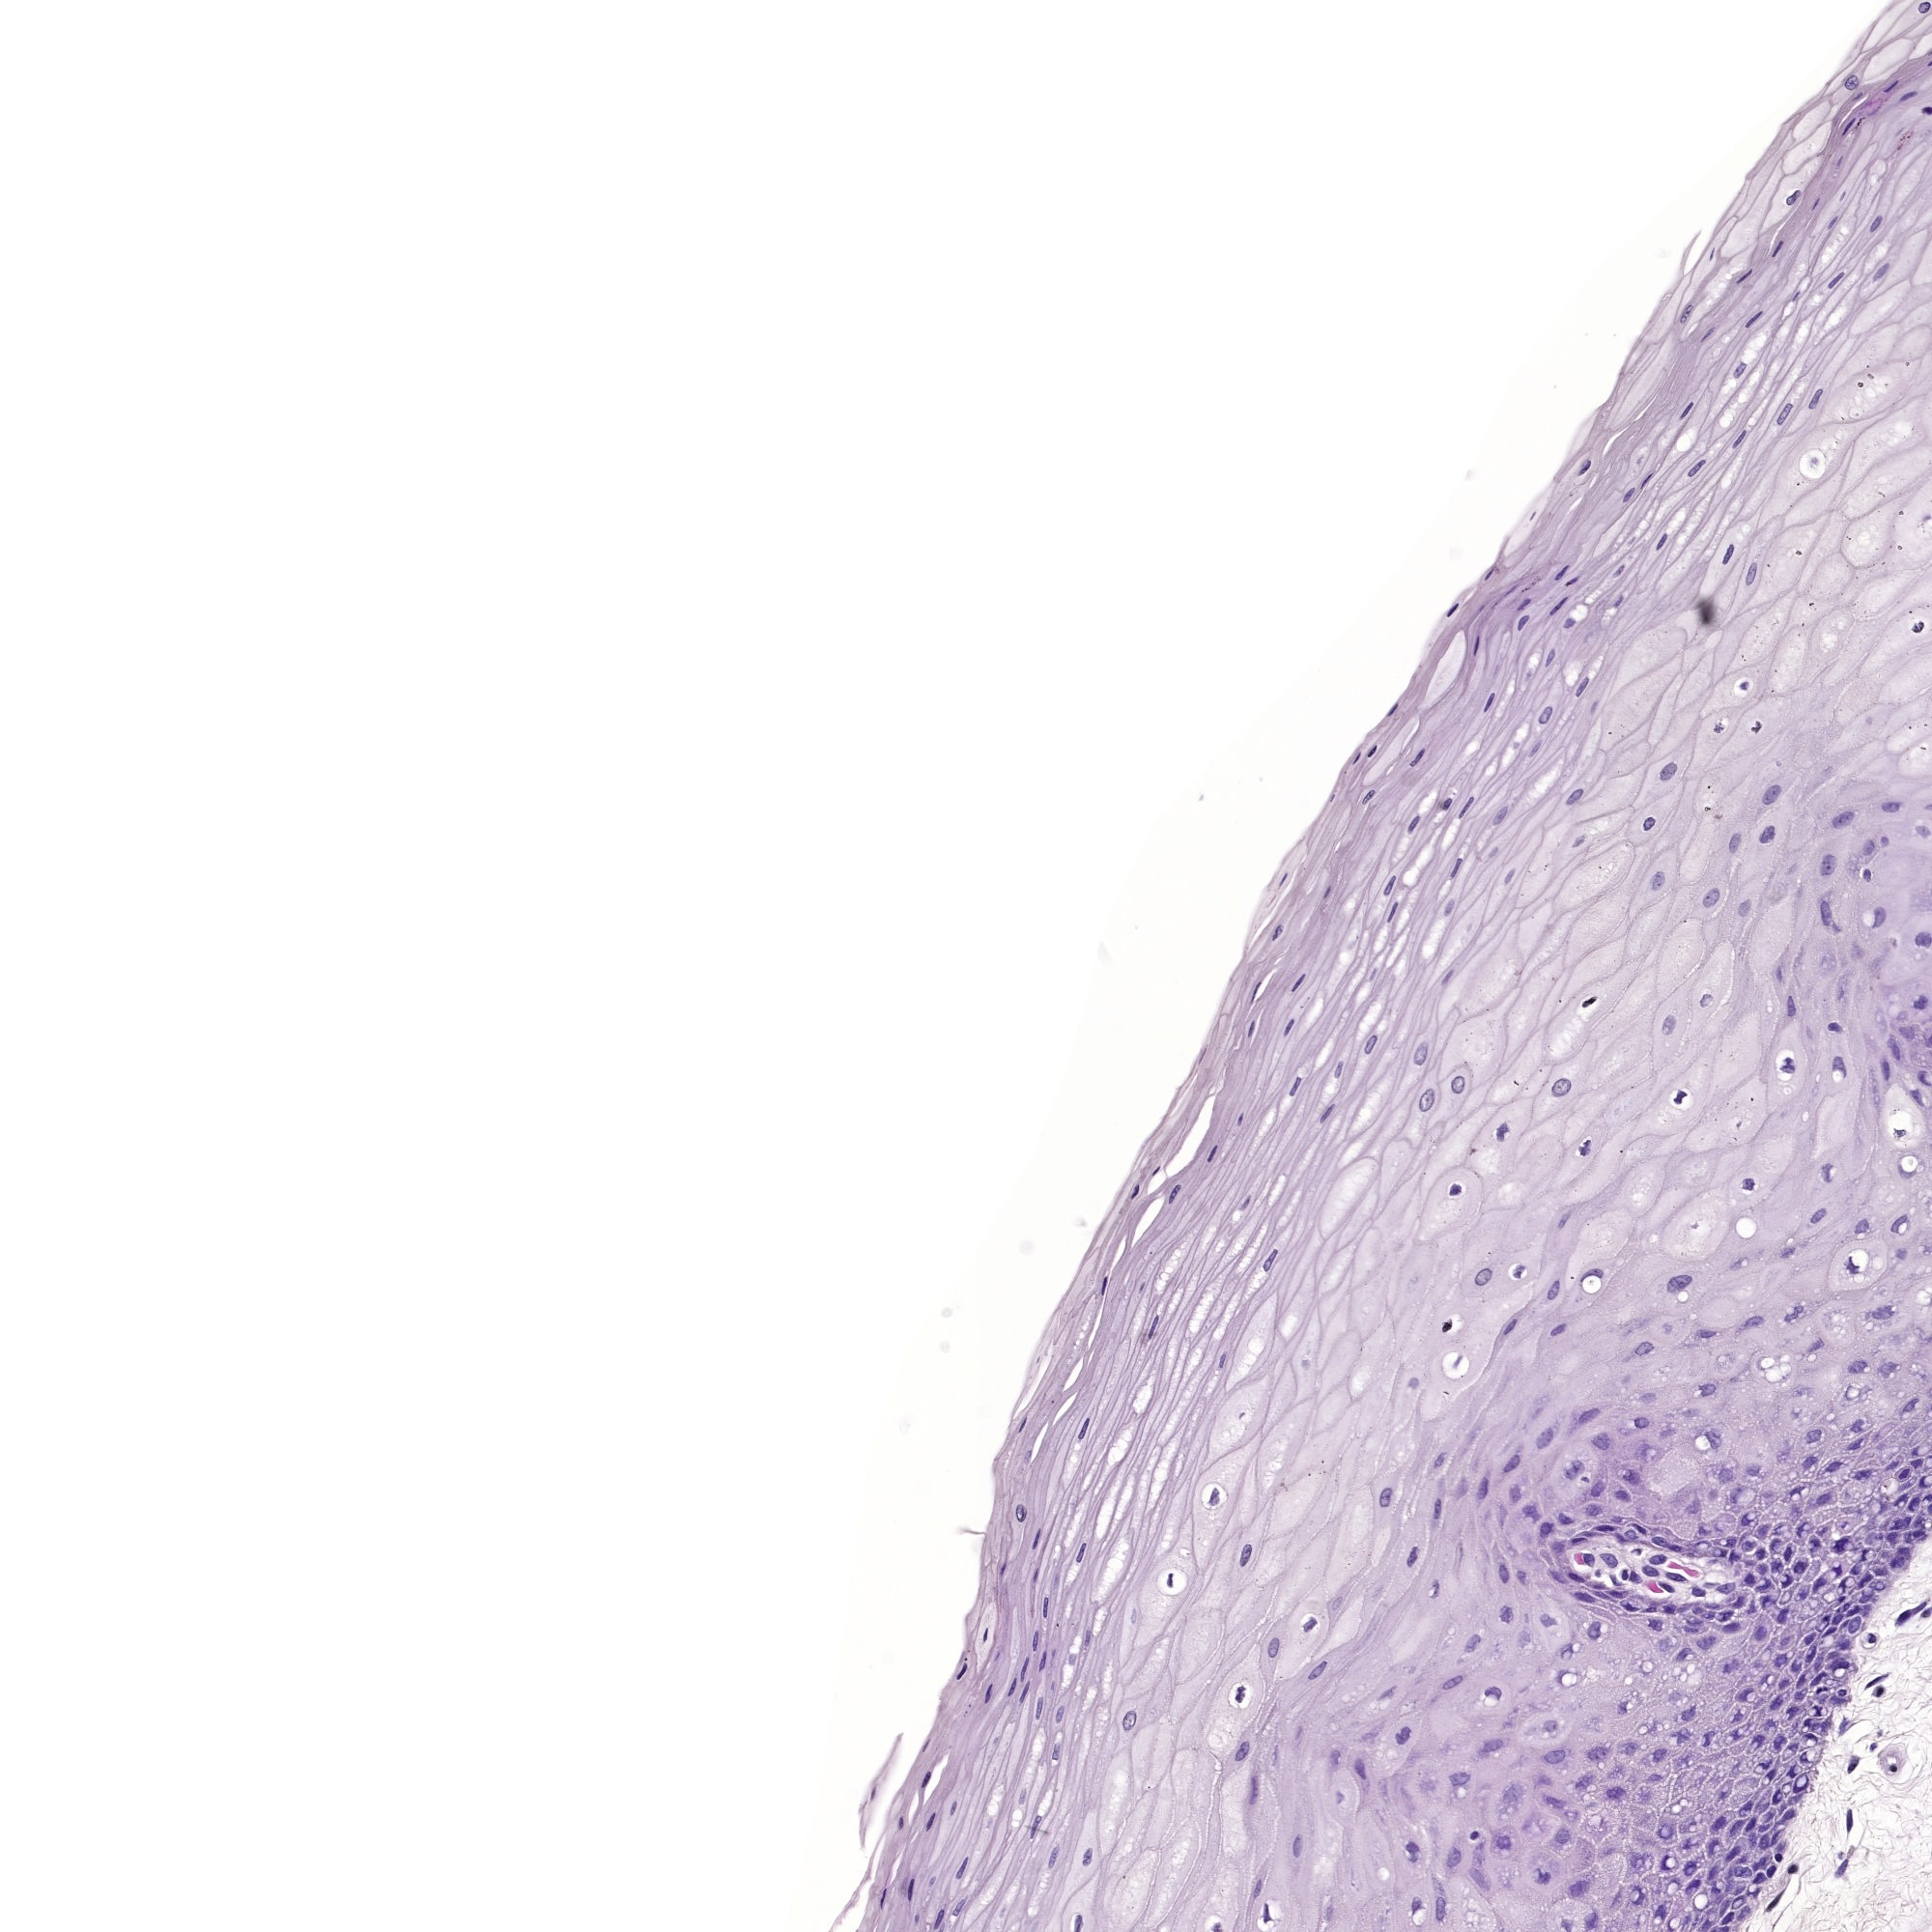epithelial: (1895, 1520, 1907, 1527), (1451, 1854, 1458, 1861), (1171, 1191, 1178, 1196), (1667, 1019, 1672, 1026), (1509, 1461, 1516, 1467), (1247, 1548, 1251, 1555), (1785, 1813, 1789, 1821), (1576, 1888, 1583, 1891), (1907, 92, 1913, 96), (1835, 1062, 1840, 1065), (1677, 1283, 1683, 1286), (1576, 1467, 1580, 1472), (1902, 1472, 1905, 1477), (1592, 1626, 1596, 1631), (1734, 1826, 1737, 1831), (1490, 1744, 1495, 1748), (1697, 465, 1700, 469), (1522, 603, 1525, 607), (1826, 909, 1828, 916), (1909, 1403, 1913, 1407), (1810, 1435, 1813, 1438), (1483, 1272, 1484, 1279), (1079, 1552, 1083, 1555), (1481, 1488, 1484, 1491), (1877, 1571, 1881, 1575), (1723, 1615, 1727, 1619), (1626, 1746, 1629, 1750), (1732, 1852, 1736, 1856), (1403, 1734, 1407, 1737), (1453, 1681, 1456, 1684), (1385, 1693, 1392, 1695), (1242, 1750, 1246, 1753), (1058, 1713, 1062, 1716), (1686, 310, 1688, 315), (1734, 840, 1736, 846), (1251, 1028, 1253, 1033), (1545, 1435, 1546, 1440), (1472, 1642, 1474, 1647), (1859, 1474, 1865, 1476), (1842, 1541, 1844, 1546), (1458, 1780, 1463, 1782), (1550, 1725, 1555, 1727), (1127, 1718, 1129, 1723), (1256, 1886, 1258, 1891), (1851, 80, 1852, 83), (1891, 87, 1893, 90), (1744, 276, 1748, 278), (1835, 278, 1838, 280), (1752, 318, 1755, 320), (1559, 571, 1560, 575), (1660, 543, 1663, 545), (1497, 816, 1499, 819), (1392, 908, 1394, 911), (1447, 975, 1449, 978), (1371, 1044, 1373, 1047), (1325, 1113, 1327, 1116), (1790, 1001, 1792, 1005), (1905, 1031, 1907, 1035), (1875, 966, 1877, 970), (1916, 1097, 1920, 1099), (1859, 1224, 1861, 1228), (1752, 1320, 1755, 1322), (1882, 1311, 1884, 1315), (1856, 1364, 1858, 1368), (1587, 1415, 1589, 1419), (1562, 1221, 1566, 1223), (1270, 1258, 1272, 1261), (1244, 1201, 1246, 1205), (1023, 1422, 1024, 1426), (1336, 1603, 1338, 1606), (1833, 1468, 1836, 1470), (1914, 1460, 1918, 1461), (1913, 1500, 1914, 1504), (1668, 1545, 1672, 1546), (1658, 1539, 1661, 1541), (1532, 1509, 1534, 1513), (1506, 1615, 1507, 1619), (1615, 1592, 1619, 1594), (1628, 1608, 1631, 1610), (1652, 1608, 1654, 1612), (1730, 1626, 1732, 1629), (1780, 1658, 1782, 1661), (1817, 1675, 1821, 1677), (1836, 1663, 1840, 1665), (1776, 1700, 1778, 1704), (1704, 1640, 1706, 1644), (1686, 1713, 1688, 1716), (1557, 1753, 1559, 1757), (1748, 1822, 1750, 1826), (1769, 1868, 1771, 1872), (1500, 1842, 1504, 1844), (1410, 1847, 1412, 1851), (1295, 1844, 1297, 1847), (1040, 1706, 1042, 1709), (1024, 1688, 1026, 1691), (957, 1905, 959, 1909), (1476, 1875, 1479, 1877), (1543, 1877, 1545, 1881), (1727, 1920, 1729, 1923), (1760, 1875, 1762, 1879), (1842, 195, 1844, 196), (1875, 223, 1877, 225), (1831, 223, 1833, 225), (1739, 370, 1741, 372), (1783, 414, 1785, 416), (1585, 465, 1587, 467), (1453, 610, 1454, 612), (1569, 582, 1571, 584), (1619, 570, 1621, 571), (1392, 708, 1394, 709), (1523, 621, 1525, 623), (1488, 701, 1490, 702), (1582, 685, 1583, 686), (1667, 770, 1668, 771), (1449, 906, 1451, 908), (1277, 931, 1279, 932), (1288, 1024, 1290, 1026), (1295, 1085, 1297, 1086), (1778, 971, 1780, 973), (1840, 991, 1842, 993), (1856, 950, 1858, 952), (1817, 1217, 1819, 1219), (1706, 1332, 1707, 1334), (1707, 1389, 1709, 1391), (1598, 1440, 1599, 1442), (1649, 1398, 1651, 1399), (1559, 1329, 1560, 1330), (1509, 1325, 1511, 1327), (1037, 1536, 1039, 1537), (1023, 1667, 1024, 1668), (1309, 1624, 1311, 1626), (1318, 1667, 1320, 1668), (1856, 1444, 1858, 1445), (1806, 1461, 1808, 1463), (1867, 1580, 1868, 1582), (1640, 1529, 1642, 1530), (1631, 1476, 1633, 1477), (1502, 1573, 1504, 1575), (1520, 1576, 1522, 1578), (1582, 1596, 1583, 1598), (1578, 1539, 1580, 1541), (1599, 1527, 1601, 1529), (1598, 1592, 1599, 1594), (1667, 1608, 1668, 1610), (1654, 1622, 1656, 1624), (1759, 1635, 1760, 1637), (1785, 1642, 1787, 1644), (1806, 1640, 1808, 1642), (1835, 1621, 1836, 1622), (1663, 1644, 1665, 1645), (1764, 1842, 1766, 1844), (1297, 1734, 1299, 1736), (1440, 1905, 1442, 1907), (1591, 1918, 1592, 1920), (1661, 1913, 1663, 1914), (1759, 1861, 1760, 1863)
fibroblast and endothelial: (1773, 1902, 1776, 1905), (1727, 1585, 1729, 1591), (1587, 1557, 1589, 1560), (1902, 1614, 1904, 1617), (1870, 1683, 1874, 1684), (1849, 1767, 1851, 1771), (1893, 1767, 1897, 1769), (1614, 1580, 1615, 1582), (1635, 1576, 1637, 1578), (1792, 1868, 1794, 1870), (1842, 1868, 1844, 1870)
lymphocyte: (1771, 793, 1776, 800), (1516, 1270, 1520, 1274), (1445, 1323, 1447, 1330), (1502, 1131, 1504, 1136), (1729, 552, 1730, 556), (1865, 846, 1867, 849), (1826, 863, 1829, 865), (1840, 817, 1842, 821), (1707, 899, 1709, 902), (1767, 832, 1769, 835), (1748, 1182, 1750, 1185), (1833, 1026, 1836, 1028), (1647, 821, 1649, 823), (1534, 748, 1536, 750), (1679, 1095, 1681, 1097), (1840, 1693, 1842, 1695), (1778, 1856, 1780, 1858)
